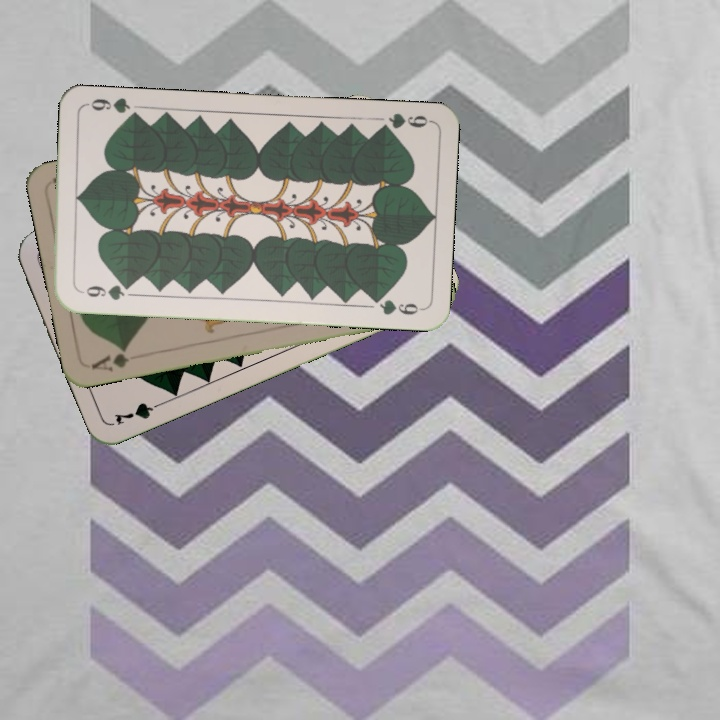G7: (110, 397, 168, 428)
G9: (373, 109, 433, 135), (75, 280, 134, 303)
GA: (87, 343, 132, 374)
